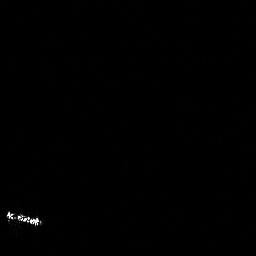ship: (3, 206, 45, 230)
